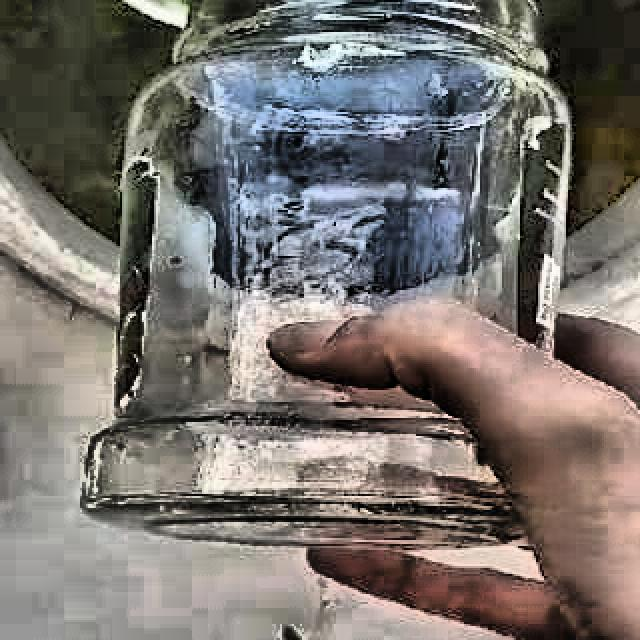glass: (83, 0, 568, 547)
